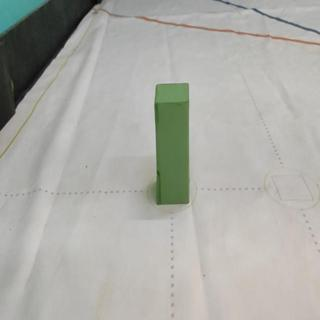greenbox: (153, 81, 192, 206)
